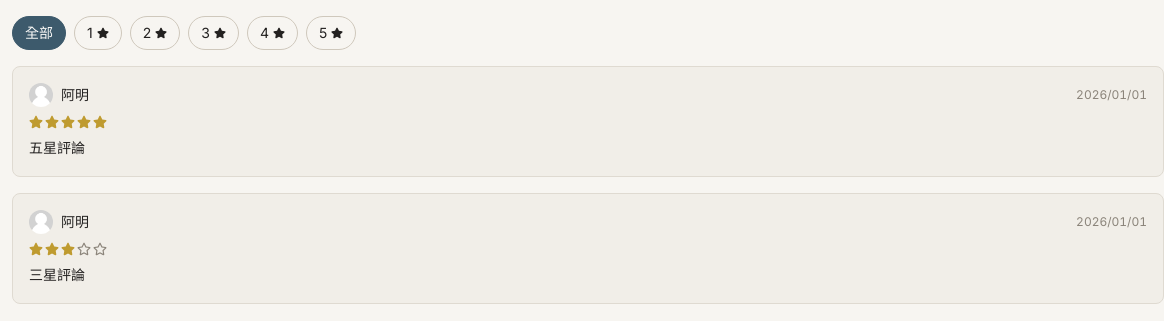
Scenario: CommentList 星等篩選 › 選擇星等後只留該星等的評論
The image size is (1164, 321).
Click the button "5" at (331,33), box [306, 16, 356, 50]
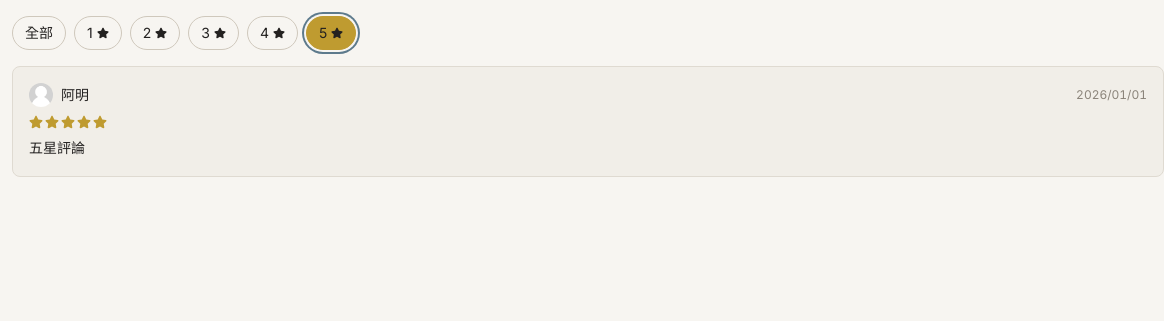
Expected: the text "五星評論" is shown, [29, 139, 85, 156]
Now the text "三星評論" is gone
